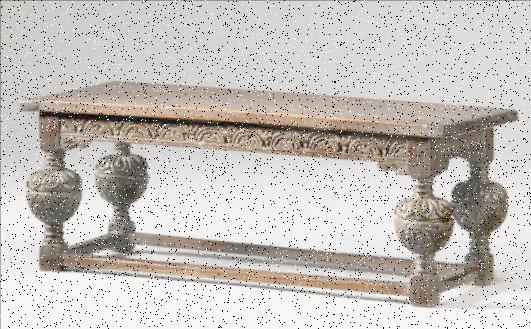Mesa: (20, 81, 516, 305)
